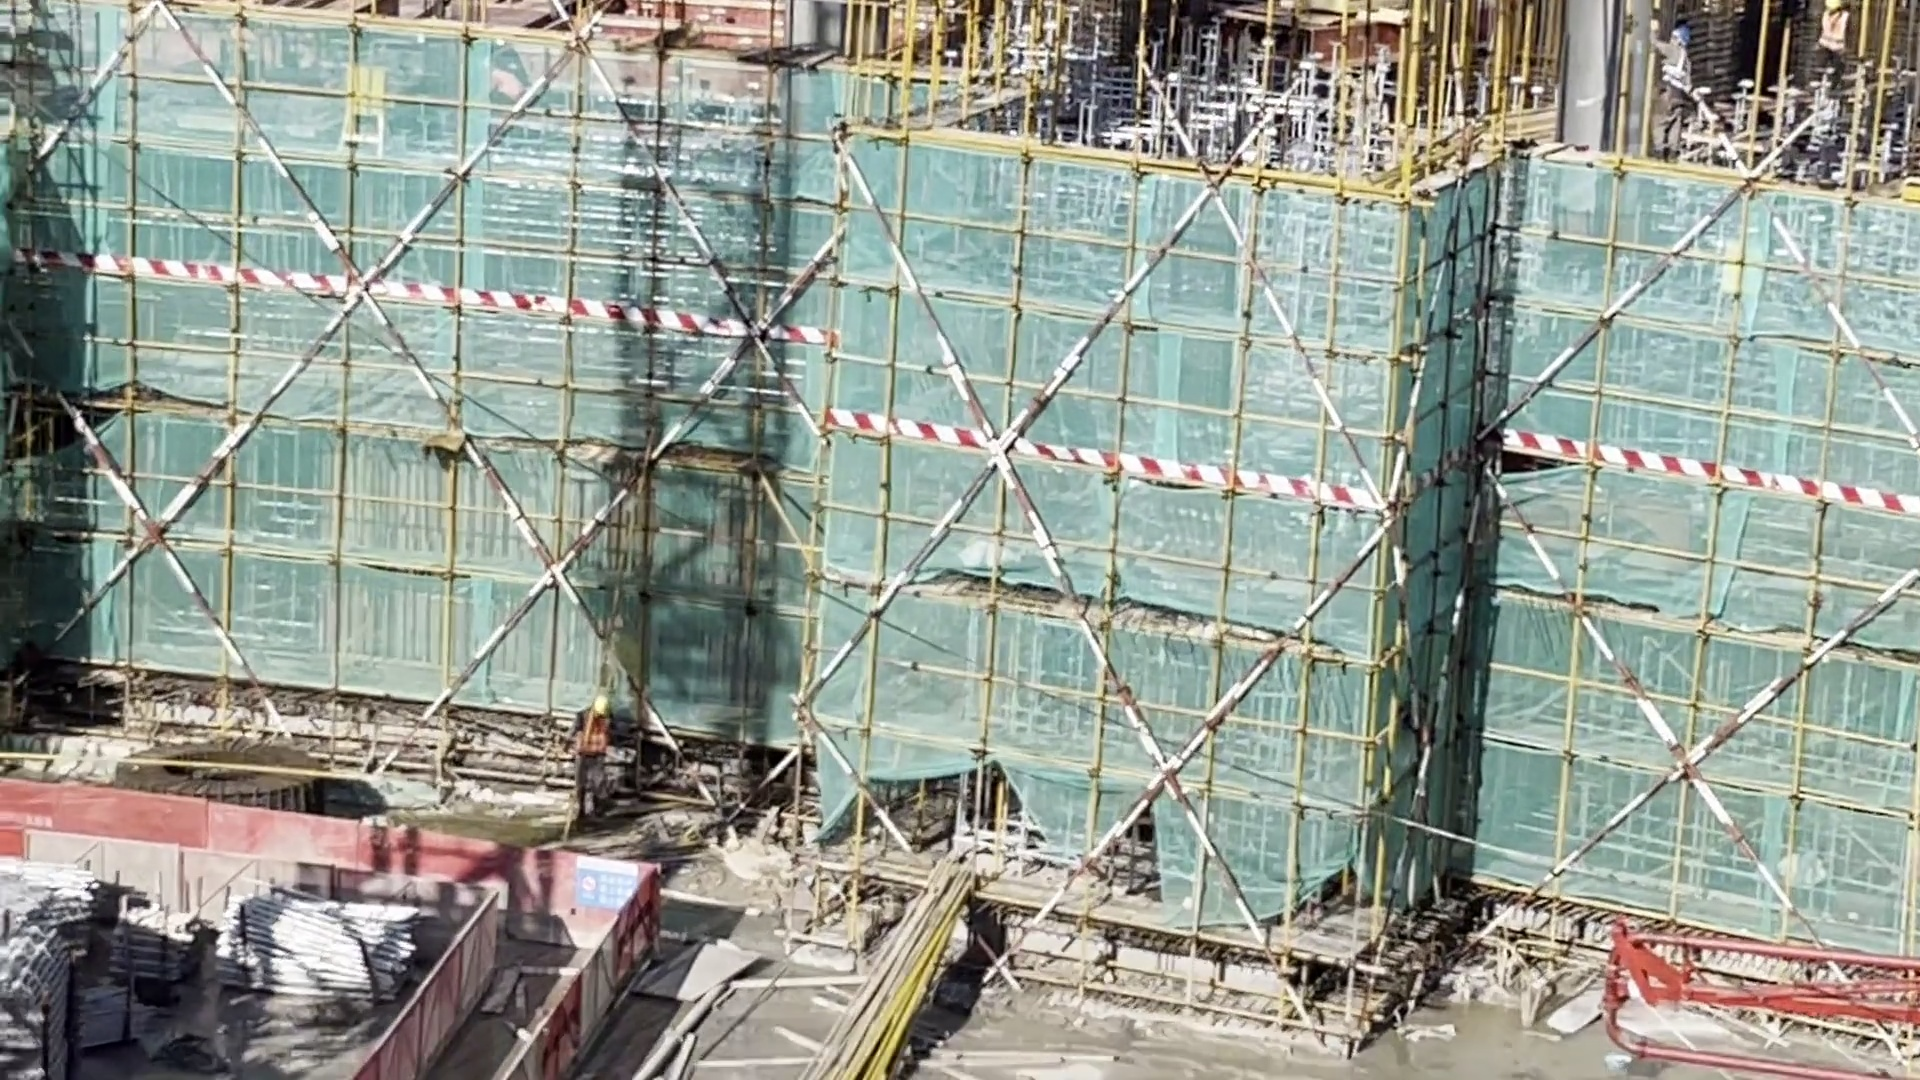fence: (1, 774, 570, 943), (363, 903, 641, 1080)
helmet: (595, 697, 606, 714)
person: (1650, 19, 1692, 162), (575, 697, 608, 830), (1820, 1, 1850, 80)
scaffold: (224, 900, 406, 1000)
slogan: (573, 856, 640, 916)
vest: (575, 716, 608, 758), (1663, 51, 1686, 91), (1821, 14, 1843, 50)
